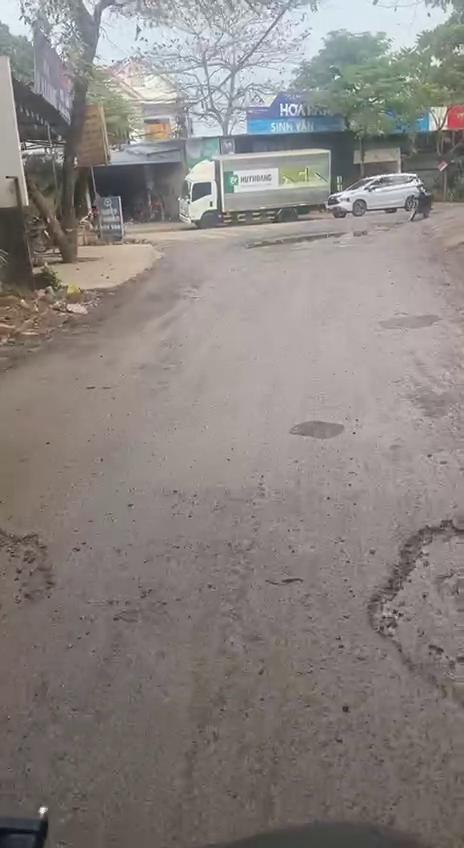pothole: (364, 514, 464, 706), (0, 511, 60, 618)
